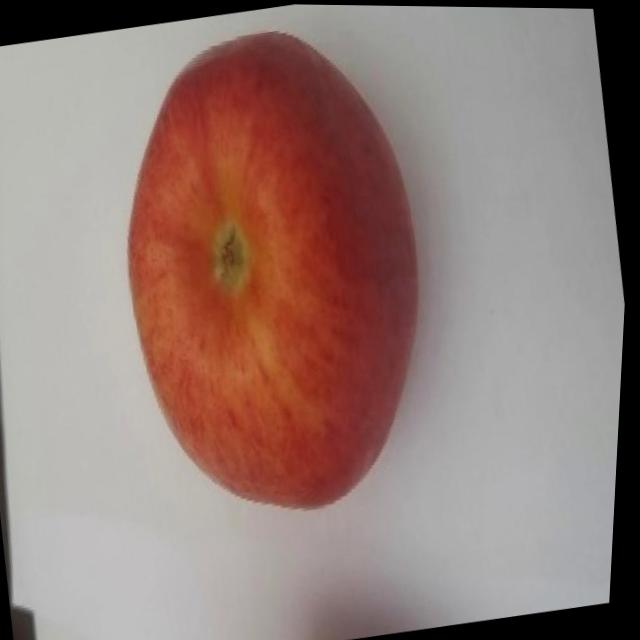Apple: (80, 6, 471, 539)
